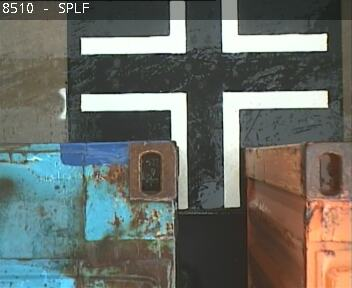groundmarker_1: (80, 92, 328, 209), (80, 1, 326, 55)
